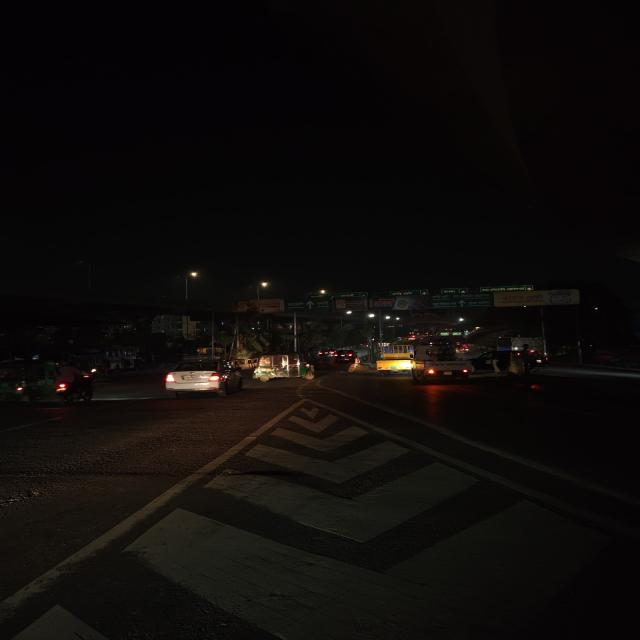car: (160, 356, 245, 398), (331, 349, 362, 364)
cng: (251, 353, 317, 382)
motorcycle: (47, 362, 99, 404)
pedestrian: (488, 341, 503, 374)
pickup_van: (410, 339, 474, 384), (374, 343, 417, 372)
